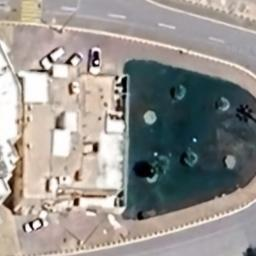sedan: (18, 213, 54, 235), (88, 44, 104, 78), (66, 50, 86, 70)
van: (37, 43, 65, 70)
